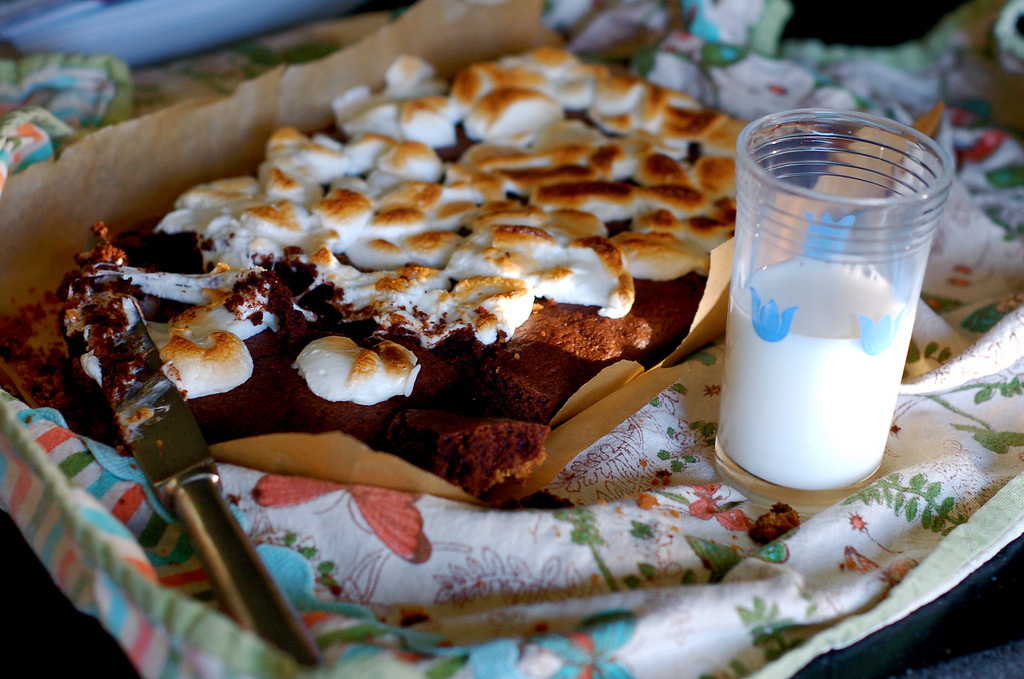glass of milk: (727, 90, 899, 500)
